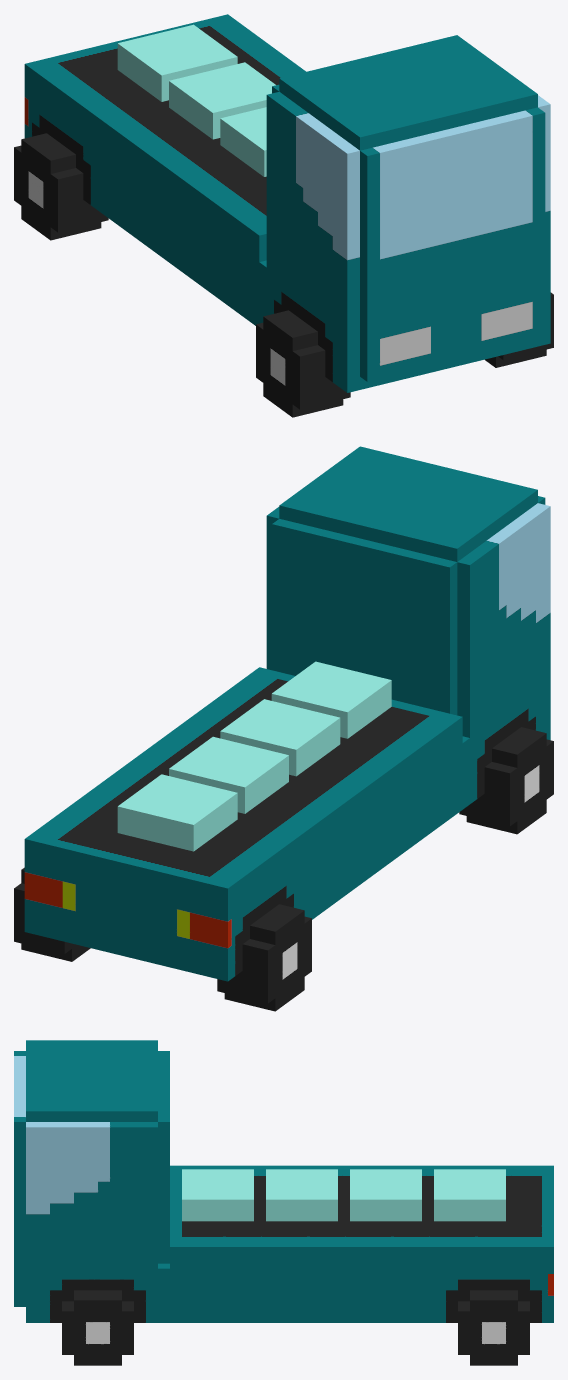
Rendered from Character_8.fbx.
3 views of the same model, one above another, from view 1: azimuth 30°, elevation 25°; view 2: azimuth 150°, elevation 25°; view 3: azimuth 270°, elevation 25° (orthographic). The views are drawn at different scales.
Visible parts, largest first — view 1: Character_8; view 2: Character_8; view 3: Character_8.
Boxes of the visible parts, left/top/right/bottom form: Character_8: left=14, top=14, right=553, bottom=417; Character_8: left=14, top=446, right=553, bottom=1011; Character_8: left=14, top=1040, right=553, bottom=1365.
Bounding box in the file's own units: 40 × 44 × 90.
